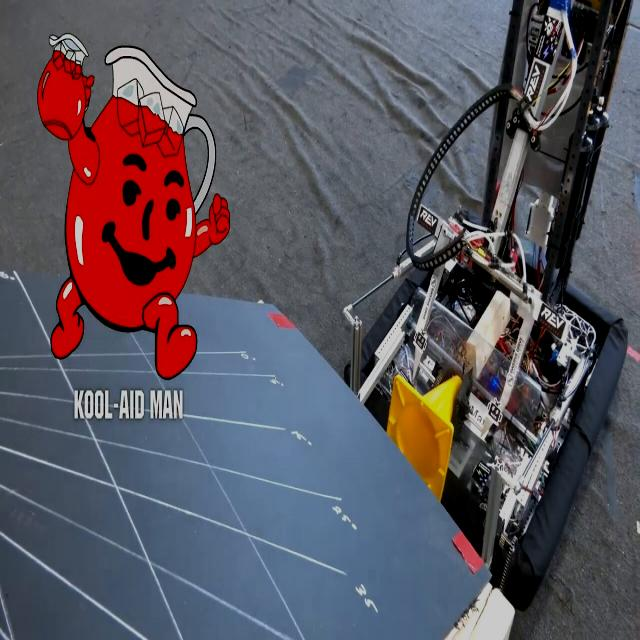frc_cone: (392, 353, 460, 491)
